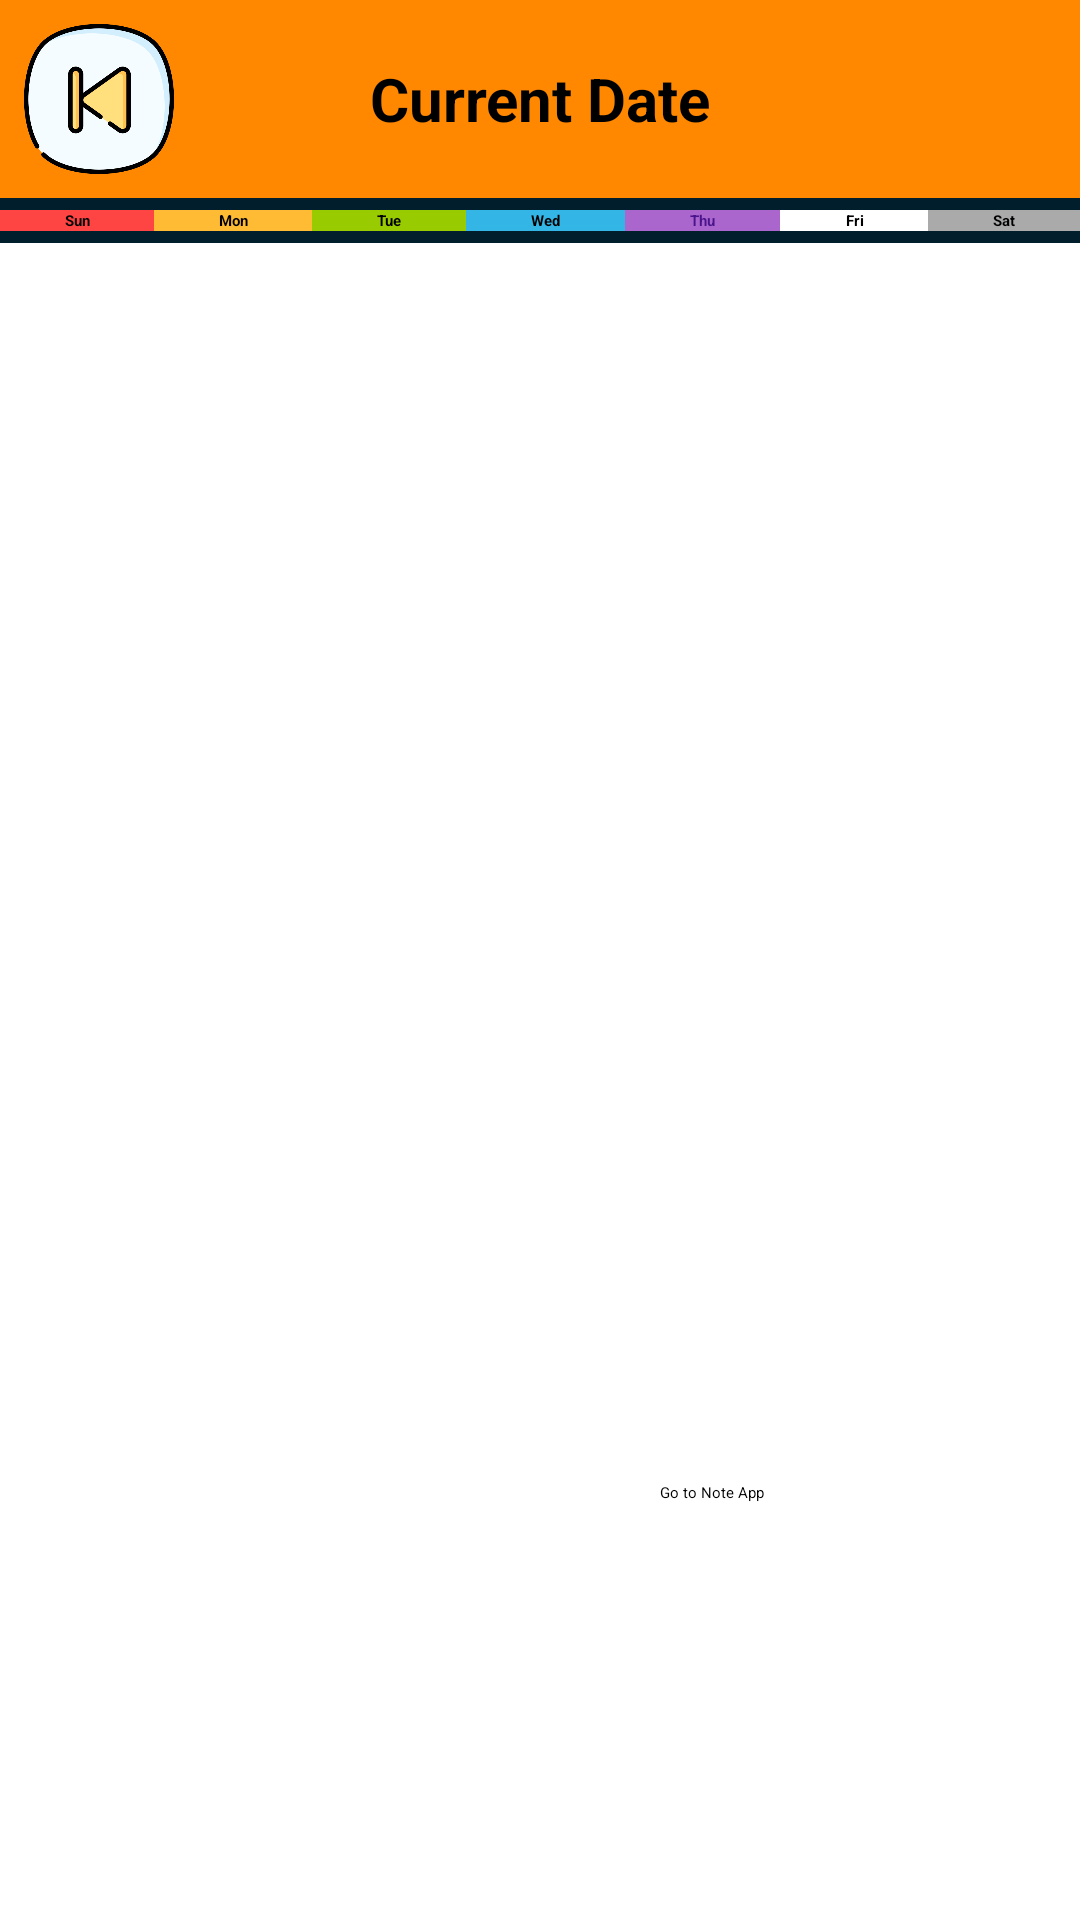

Screen size 1080x1920. Icon name, then its center in pixels as (x=x, y=y):
Previous Date: (x=99, y=99)
